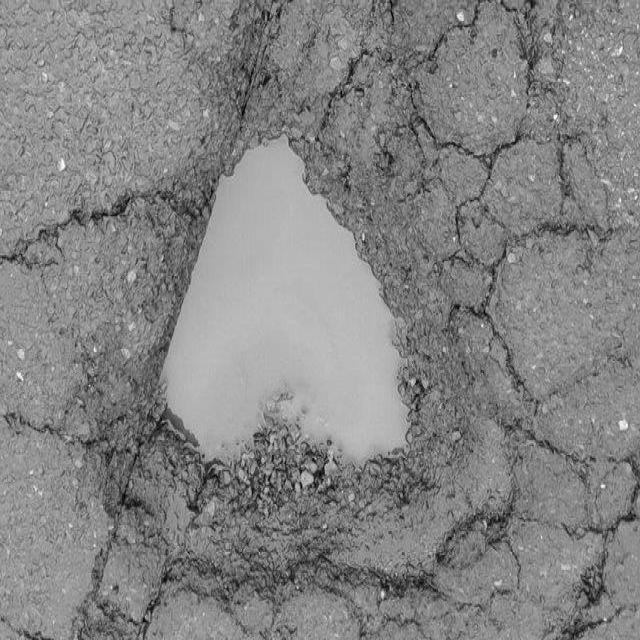jalan retak: (363, 0, 588, 217), (398, 188, 552, 467), (282, 496, 548, 640), (0, 355, 154, 546), (76, 396, 212, 608), (416, 300, 640, 426), (432, 148, 640, 278), (308, 1, 434, 180), (0, 172, 206, 276), (540, 430, 640, 640), (174, 498, 324, 638), (152, 0, 282, 112), (73, 558, 195, 640), (441, 260, 504, 353), (0, 595, 70, 640)
lubang: (151, 120, 433, 510)
